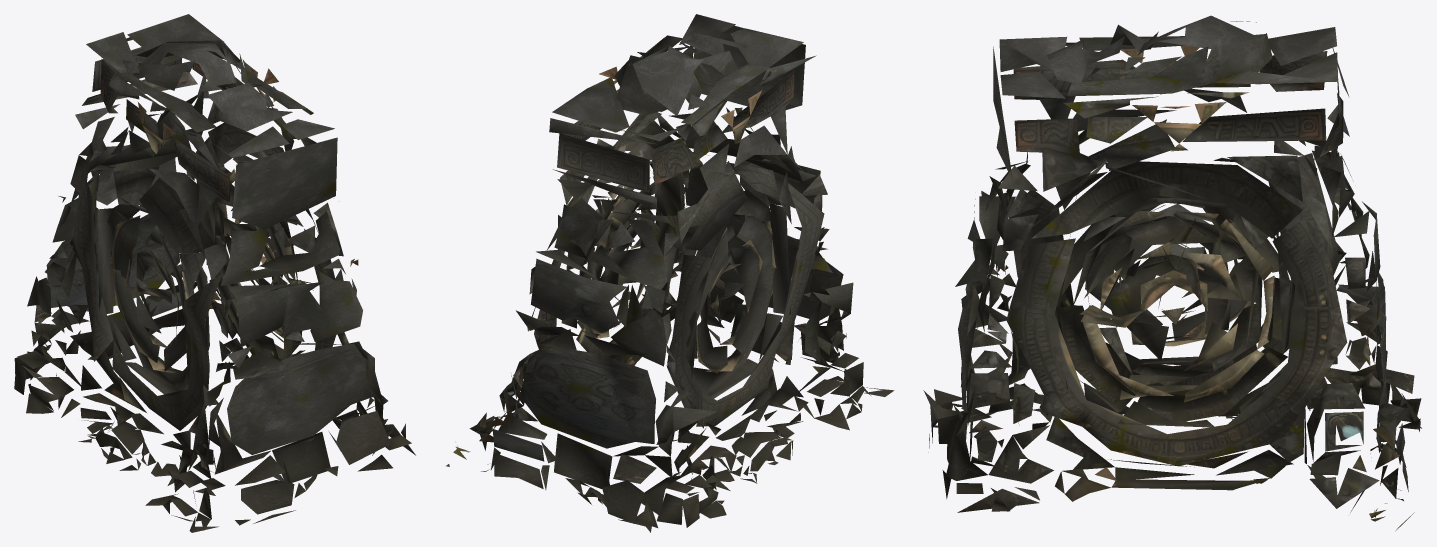
Rendered from ch1_first_sealed_portal_LOD3.glb.
3 renders of one model, left to right at view 1: azimuth 30°, elevation 25°; view 2: azimuth 150°, elevation 25°; view 3: azimuth 270°, elevation 25°, orthographic. The views are drawn at different scales.
Parts seen in each view (by area): view 1: tripo_node_30cc7031-aaaa-48c9-b1ef-075203d77a03; view 2: tripo_node_30cc7031-aaaa-48c9-b1ef-075203d77a03; view 3: tripo_node_30cc7031-aaaa-48c9-b1ef-075203d77a03.
Part boxes in pixels (x1,y1,x2,y2): tripo_node_30cc7031-aaaa-48c9-b1ef-075203d77a03: [14, 14, 415, 532]; tripo_node_30cc7031-aaaa-48c9-b1ef-075203d77a03: [446, 14, 894, 532]; tripo_node_30cc7031-aaaa-48c9-b1ef-075203d77a03: [923, 15, 1421, 531].
Bounding box in the file's own units: 0.6544 × 0.9696 × 0.9791.
1 material, 1 textured.
